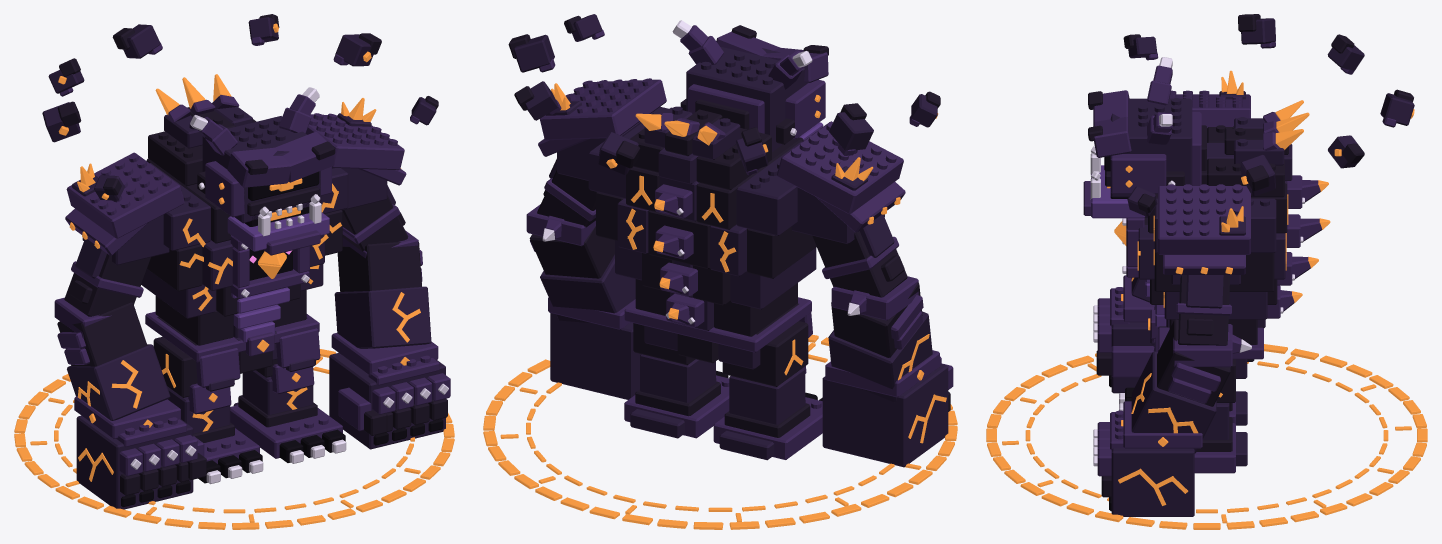
Rendered from RuneGolem.glb.
3 views of the same model, side by side, from view 1: azimuth 30°, elevation 25°; view 2: azimuth 150°, elevation 25°; view 3: azimuth 270°, elevation 25° (orthographic). The views are drawn at different scales.
Visible parts, largest first — view 1: ArmR, Body, ArmL, Head, LegL, Circle_NeonAmber, Shards, LegR, Body_NeonAmber, ArmR_NeonAmber, ArmL_NeonAmber; view 2: Body, ArmR, ArmL, Head, LegR, Circle_NeonAmber, Shards, LegL, Body_NeonAmber, ArmR_NeonAmber; view 3: ArmL, Body, Head, Circle_NeonAmber, ArmR, Shards, LegL, Body_NeonAmber, ArmL_NeonAmber, LegR.
Part boxes in pixels (x1,y1,x2,y2): ArmR: (54, 152, 206, 509); Body: (141, 95, 348, 391); ArmL: (305, 113, 450, 449); Head: (190, 87, 335, 255); LegL: (230, 359, 346, 463); Circle_NeonAmber: (14, 349, 454, 529); Shards: (42, 14, 438, 200); LegR: (153, 336, 263, 484); Body_NeonAmber: (155, 74, 341, 352); ArmR_NeonAmber: (69, 163, 152, 481); ArmL_NeonAmber: (341, 98, 420, 365); Body: (588, 106, 816, 369); ArmR: (777, 121, 953, 467); ArmL: (526, 78, 666, 399); Head: (672, 20, 828, 151); LegR: (713, 321, 822, 460); Circle_NeonAmber: (483, 334, 957, 529); Shards: (508, 14, 940, 175); LegL: (624, 323, 729, 438); Body_NeonAmber: (626, 113, 736, 319); ArmR_NeonAmber: (835, 157, 946, 443); ArmL: (1093, 184, 1251, 516); Body: (1122, 112, 1321, 378); Head: (1083, 57, 1206, 218); Circle_NeonAmber: (986, 344, 1427, 529); ArmR: (1093, 90, 1250, 393); Shards: (1123, 14, 1414, 216); LegL: (1194, 359, 1247, 473); Body_NeonAmber: (1114, 100, 1330, 330); ArmL_NeonAmber: (1118, 206, 1243, 505); LegR: (1119, 387, 1247, 425).
Size of the model in its own units: 5.33 by 4.72 by 5.33.
2 materials, 2 textured.
